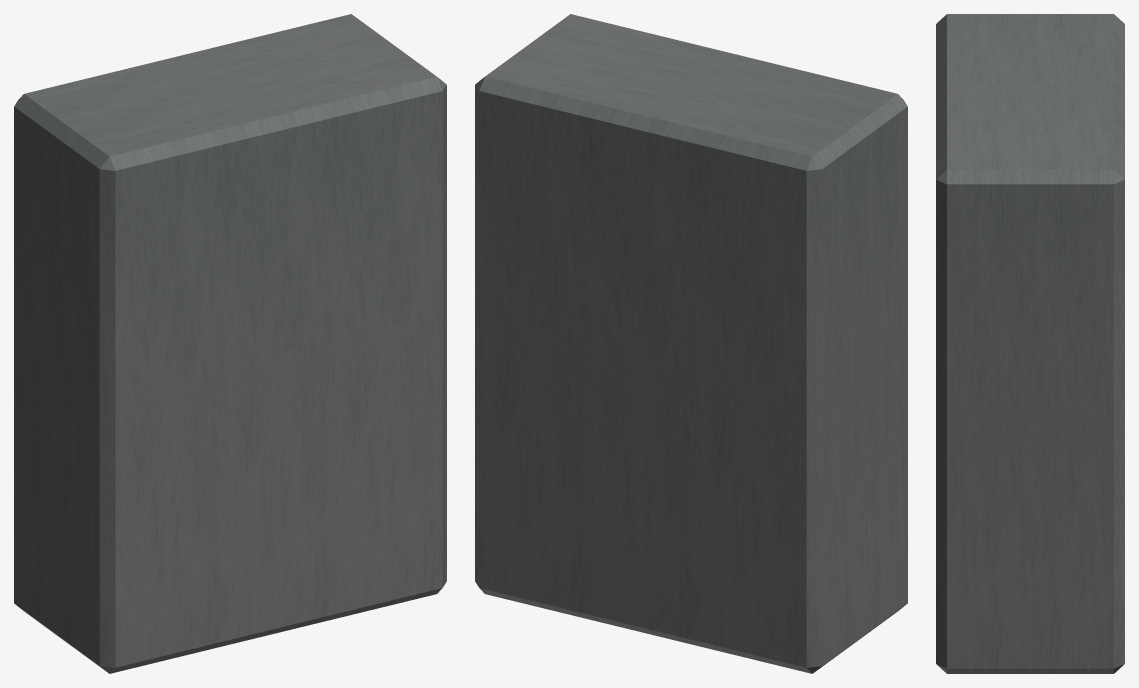
The model's file is ShutterBox.fbx.
3 views of the same model, side by side, from view 1: azimuth 30°, elevation 25°; view 2: azimuth 150°, elevation 25°; view 3: azimuth 270°, elevation 25° (orthographic). The views are drawn at different scales.
Visible parts, largest first — view 1: ShutterBox; view 2: ShutterBox; view 3: ShutterBox.
Part boxes in pixels (x1,y1,x2,y2): ShutterBox: (14,14,446,673); ShutterBox: (475,14,907,673); ShutterBox: (936,14,1124,673).
Bounding box in the file's own units: 0.2808 × 0.4 × 0.1358.
